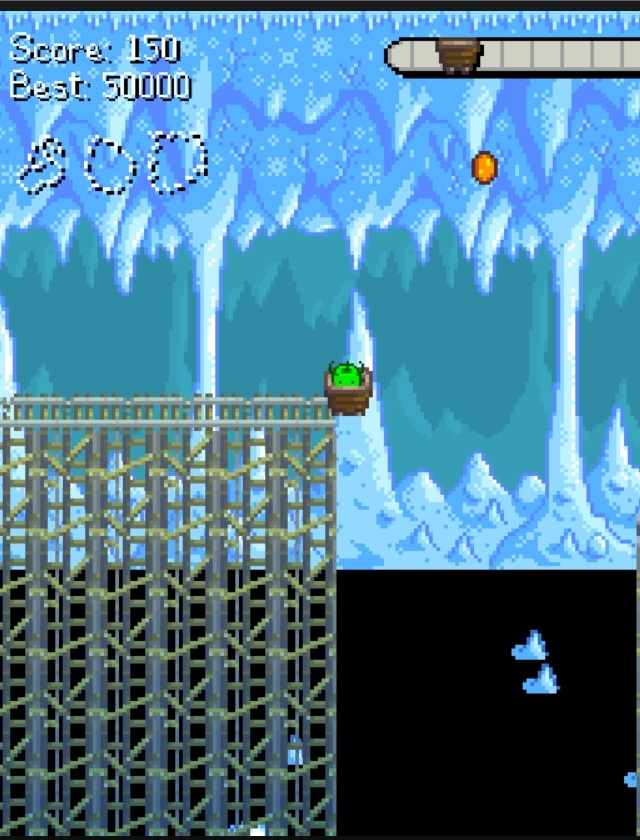coins: (472, 150, 497, 184)
minecart: (325, 368, 371, 414)
score: (122, 26, 182, 66)
tracks: (0, 389, 318, 433)
